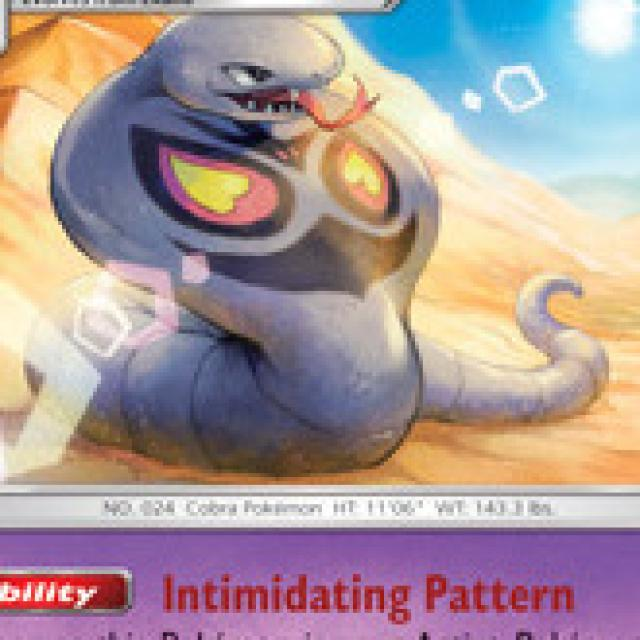Arbok: (67, 21, 440, 491)
